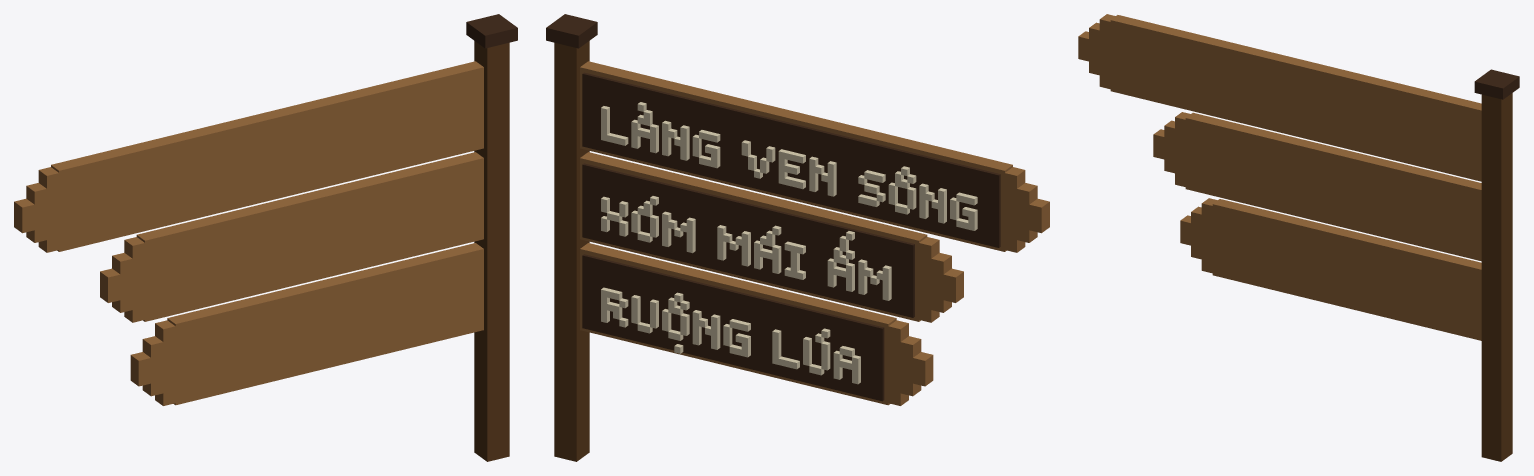
The model's file is th-signpost-west.glb.
3 views of the same model, side by side, from view 1: azimuth 30°, elevation 25°; view 2: azimuth 150°, elevation 25°; view 3: azimuth 330°, elevation 25° (orthographic). The views are drawn at different scales.
Parts seen in each view (by area): view 1: box-prop; view 2: box-prop; view 3: box-prop.
Boxes of the visible parts, x1,y1,x2,y2 form: box-prop: (14, 14, 517, 461); box-prop: (546, 14, 1049, 461); box-prop: (1078, 14, 1519, 461).
Bounding box in the file's own units: 4.8 × 4.02 × 0.32.
